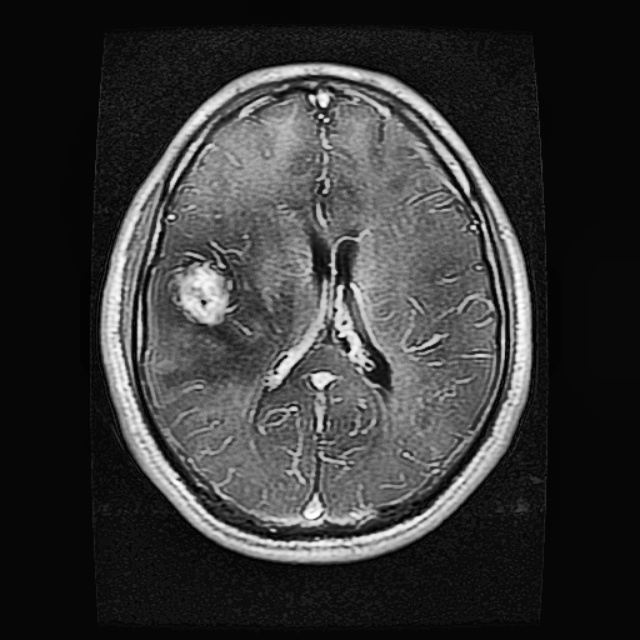Pituitary: (160, 239, 245, 327)
